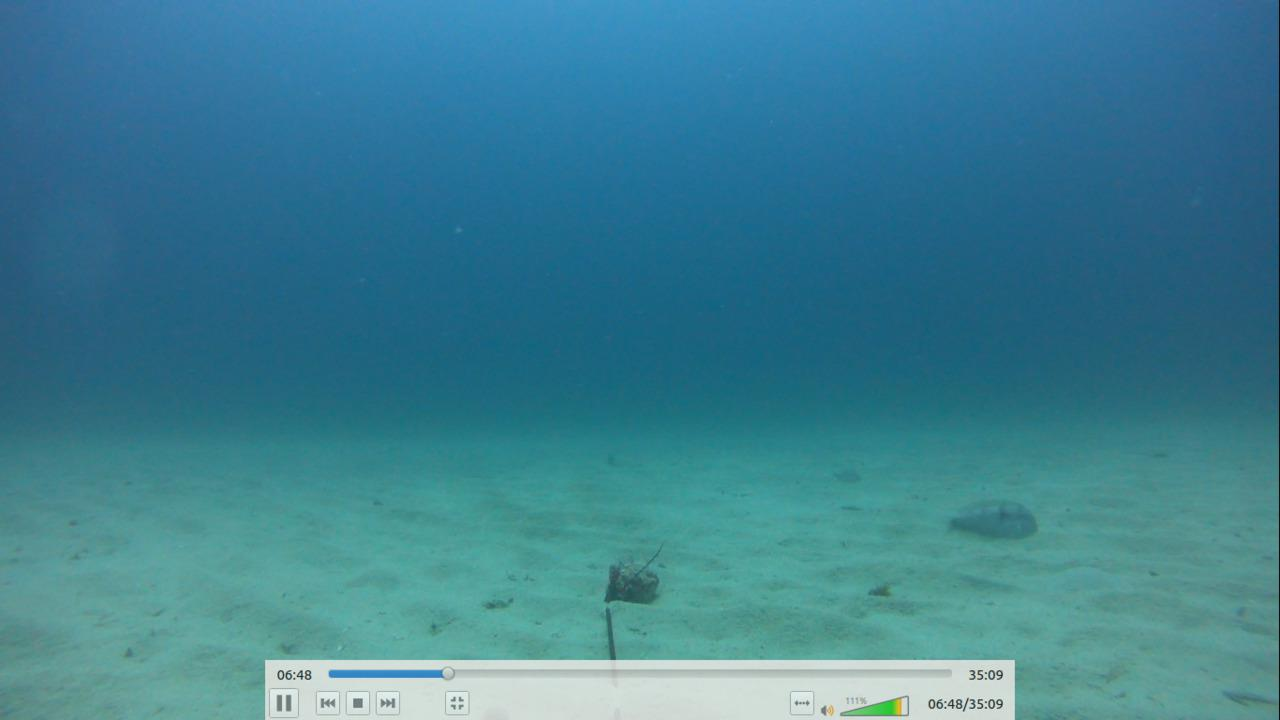raor: (929, 493, 1039, 542)
